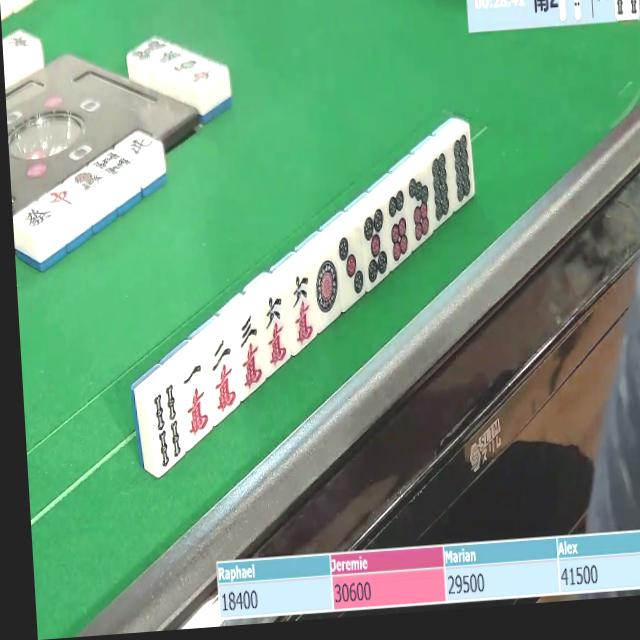m1: (178, 358, 218, 444)
m2: (207, 340, 241, 417)
m3: (233, 311, 271, 395)
m6: (287, 269, 322, 350), (260, 293, 294, 372)
s3: (614, 0, 640, 20)
s4: (148, 380, 189, 477)
t1: (311, 249, 345, 326)
t3: (334, 228, 369, 307)
t5: (360, 207, 393, 289)
t6: (379, 186, 416, 268)
t7: (401, 169, 436, 247)
t8: (450, 129, 478, 207), (427, 150, 456, 225)
